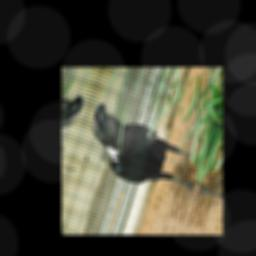Crow: (77, 98, 212, 204)
